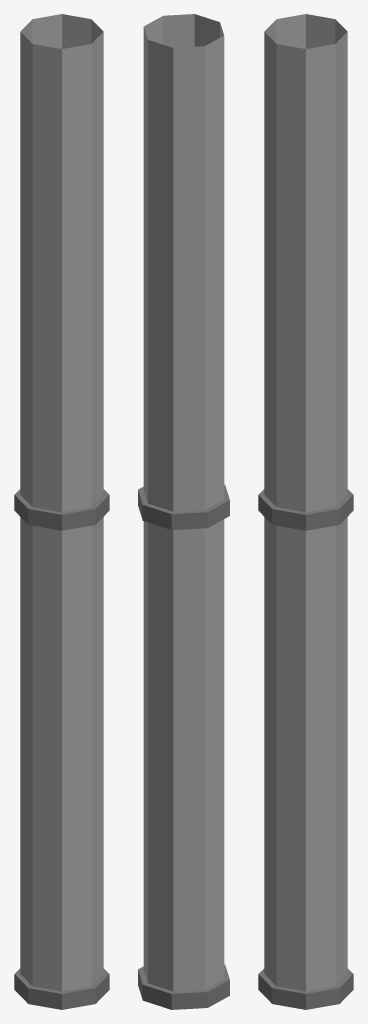
The model's file is SM_drainPipe.glb.
3 renders of one model, left to right at view 1: azimuth 90°, elevation 25°; view 2: azimuth 210°, elevation 25°; view 3: azimuth 270°, elevation 25°, orthographic.
Parts seen in each view (by area): view 1: SM_drainPipe; view 2: SM_drainPipe; view 3: SM_drainPipe.
Boxes of the visible parts, box(x1,y1,x2,y2) form: SM_drainPipe: box(14, 14, 109, 1009); SM_drainPipe: box(138, 14, 229, 1009); SM_drainPipe: box(258, 14, 353, 1009).
Size of the model in its own units: 0.2695 by 3 by 0.2695.
Materials: 1 (1 with a texture image).
